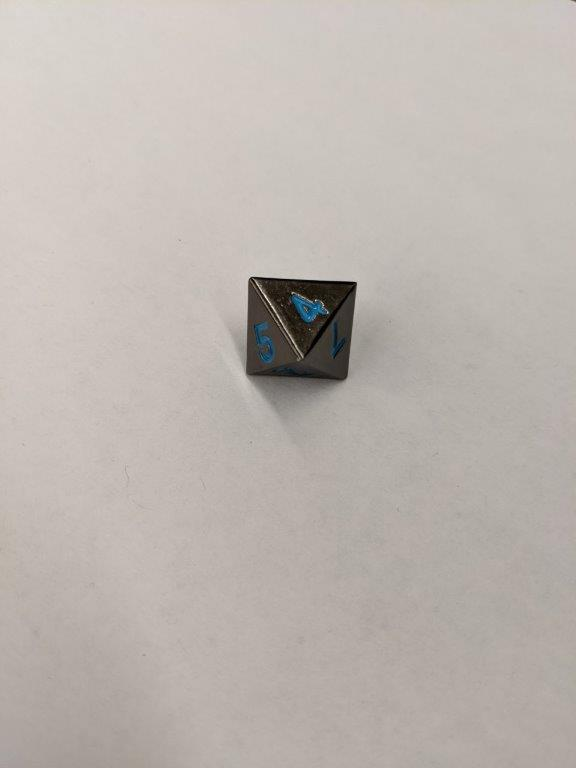d8-4: (244, 274, 359, 389)
